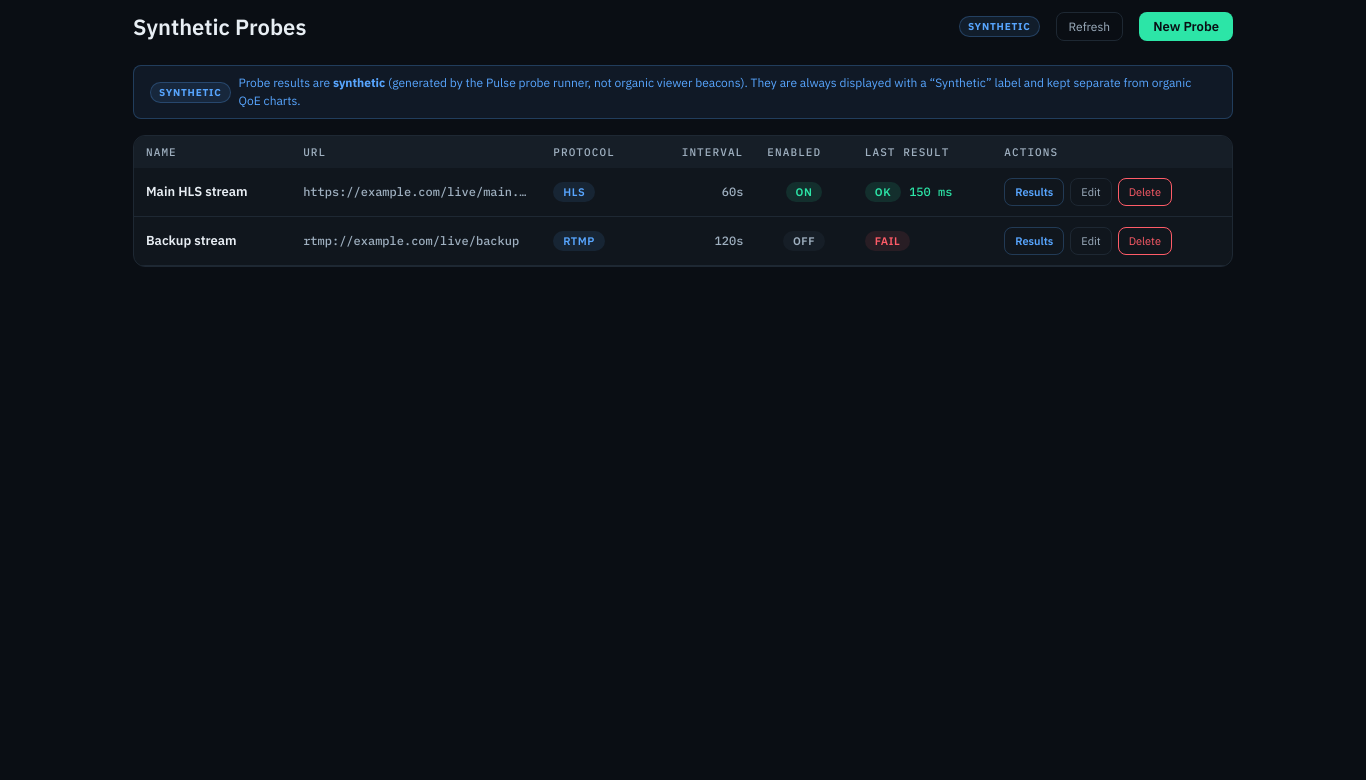
Test: ProbesPage WebRTC columns › renders 'connected' badge for ice_state='connected'
Expected: the text "Main HLS stream" is shown, [134,168,291,216]
Click the button with aria-label "view results for": click(1034, 192) [1004,178,1064,206]
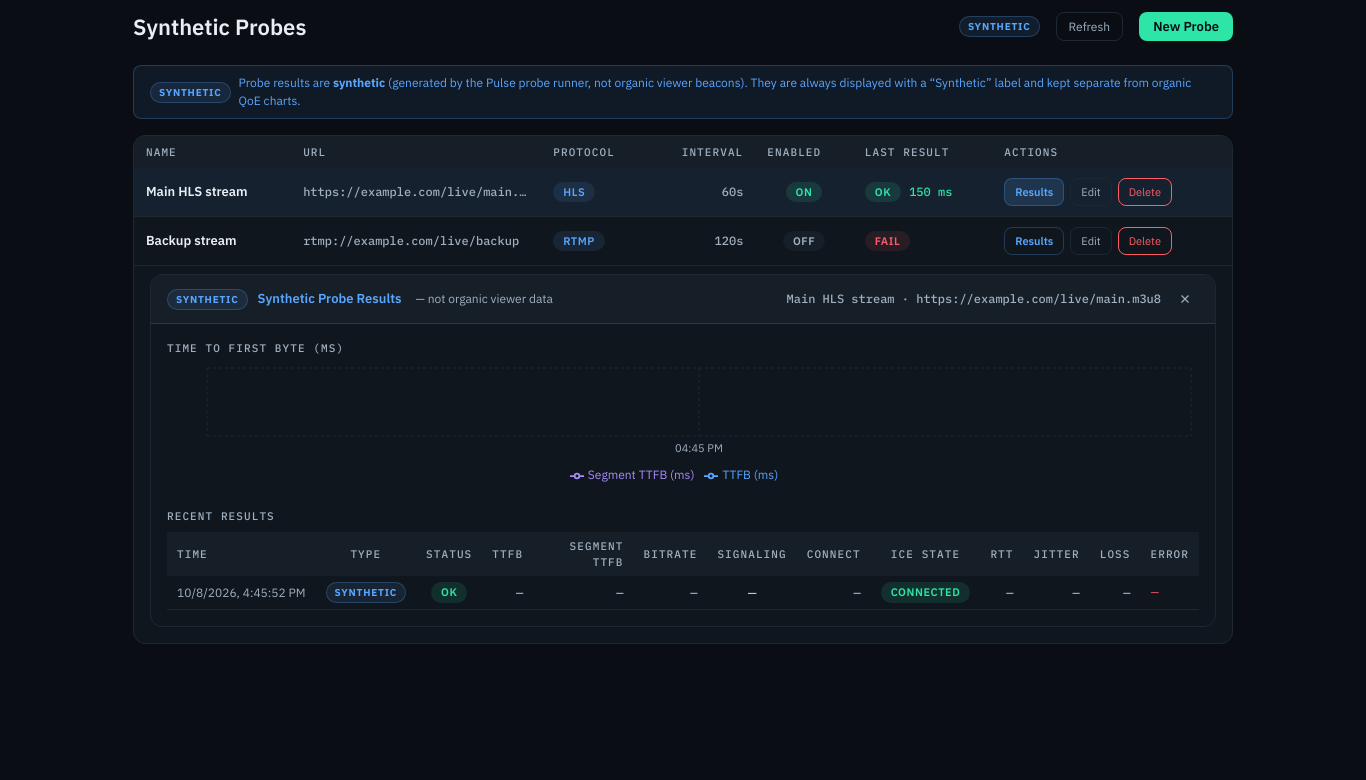
Expected: the text "Synthetic Probe Results" is shown, [258,289,402,309]
Expected: the text "connected" is shown, [881,582,970,603]
